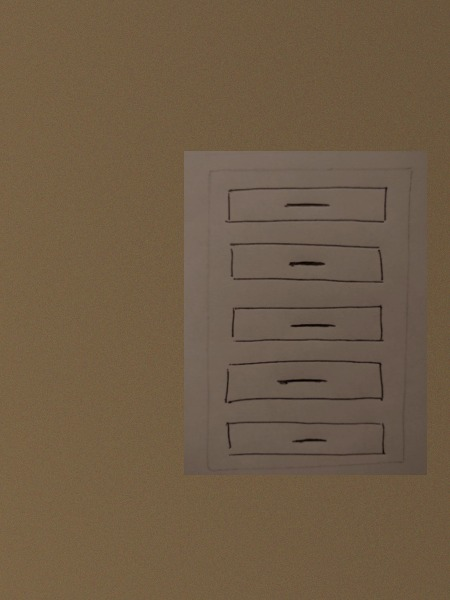button: (222, 358, 390, 405), (222, 415, 390, 462), (225, 183, 390, 227), (224, 241, 389, 285), (225, 302, 390, 346)
